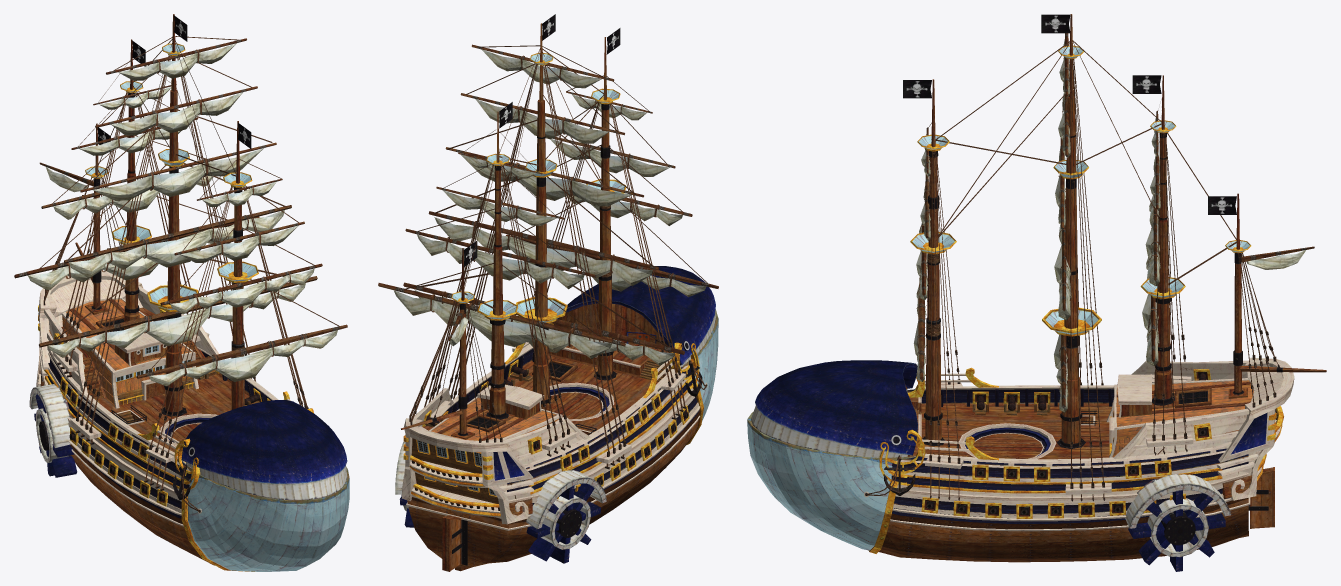
File: Sailing_Ship_004_Whale.glb
3 views of the same model, side by side, from view 1: azimuth 30°, elevation 25°; view 2: azimuth 150°, elevation 25°; view 3: azimuth 270°, elevation 25° (orthographic). The views are drawn at different scales.
Parts seen in each view (by area): view 1: UHL1XJTUUYL9T36EYPM9S6B9I; view 2: UHL1XJTUUYL9T36EYPM9S6B9I; view 3: UHL1XJTUUYL9T36EYPM9S6B9I.
Boxes of the visible parts, x1,y1,x2,y2 form: UHL1XJTUUYL9T36EYPM9S6B9I: (14,14,349,571); UHL1XJTUUYL9T36EYPM9S6B9I: (378,14,718,571); UHL1XJTUUYL9T36EYPM9S6B9I: (747,14,1326,571).
Bounding box in the file's own units: 1.47 × 2.5 × 2.46.
Materials: 15 (15 with a texture image).
